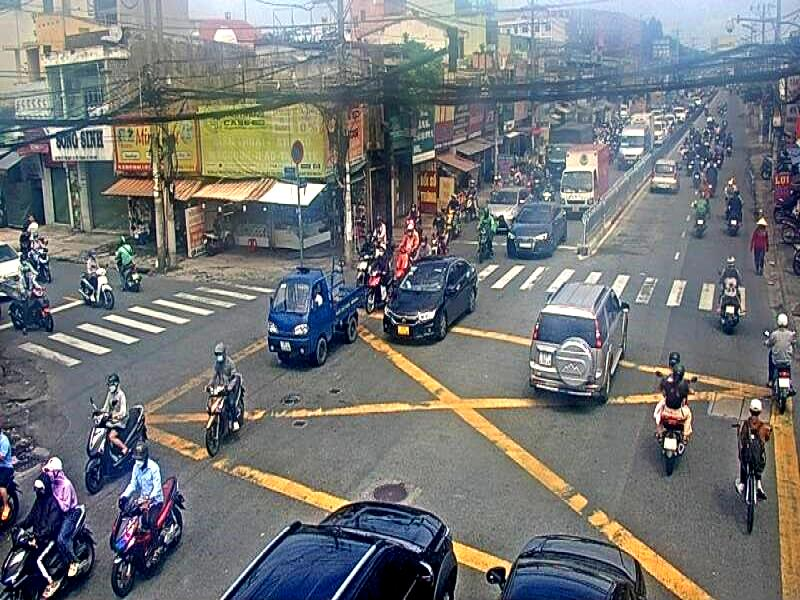car: (217, 500, 457, 600), (532, 286, 632, 401), (494, 536, 649, 600), (382, 259, 478, 346), (506, 205, 566, 262), (484, 184, 531, 240), (616, 124, 650, 173), (652, 157, 680, 194)
motorcycle: (108, 475, 184, 600), (0, 507, 96, 600), (85, 403, 150, 500), (204, 372, 246, 452), (657, 412, 689, 473)
truck: (267, 266, 364, 362), (560, 147, 608, 223), (547, 122, 593, 191)
